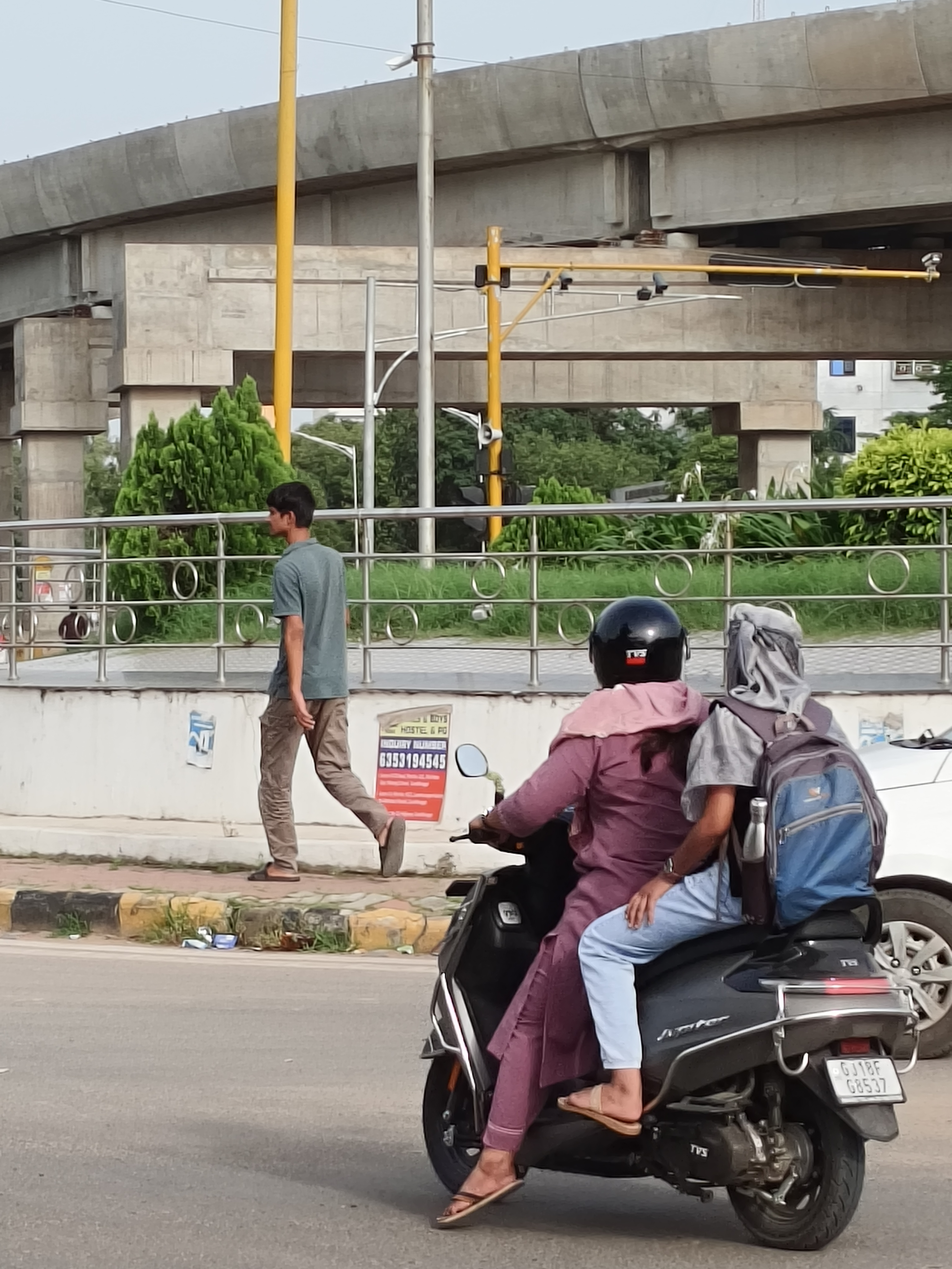BikeWithRider: (400, 585, 929, 1261)
Helmet: (575, 587, 701, 699)
NoHelmet: (710, 594, 820, 710)
